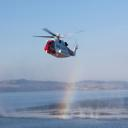helicopter: (41, 25, 87, 64)
